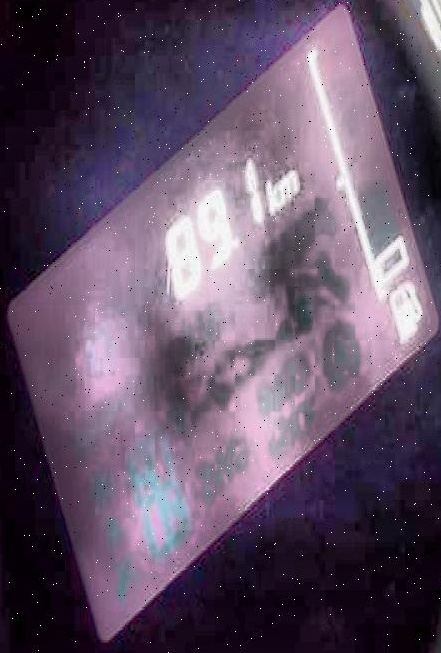-: (231, 224, 242, 257)
1: (240, 151, 264, 229)
8: (161, 211, 201, 304)
9: (193, 182, 232, 271)
X: (279, 166, 299, 200), (265, 175, 282, 215)
